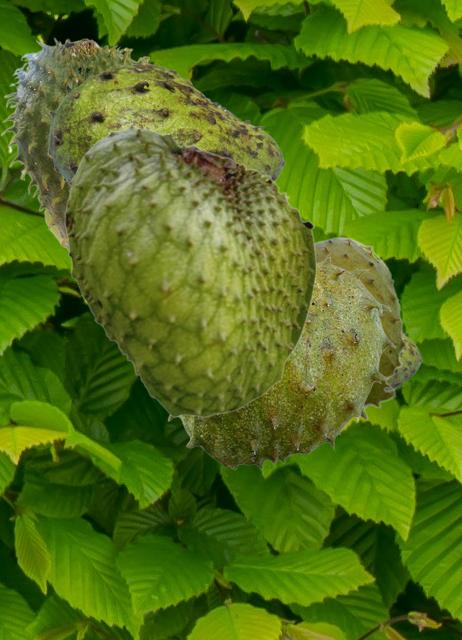guyabano: (64, 121, 316, 417), (167, 252, 395, 469), (0, 37, 150, 251), (46, 62, 284, 187), (316, 236, 406, 410), (388, 332, 421, 388)
